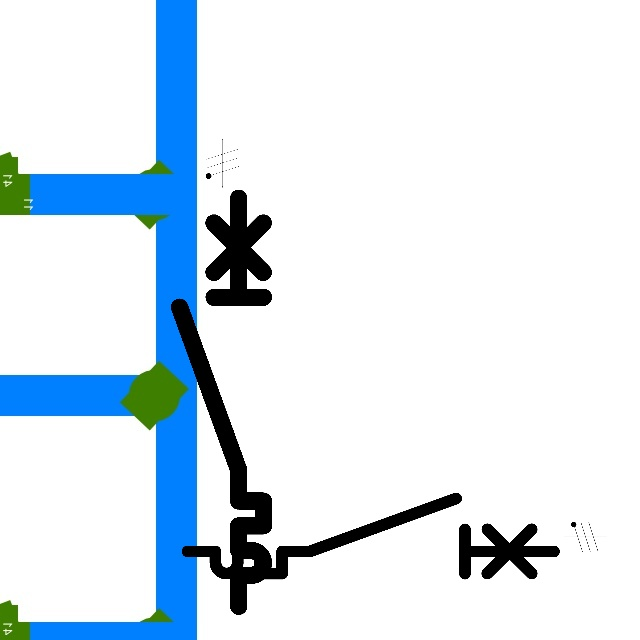interruptor_termomagnetico: (169, 187, 274, 617), (178, 489, 563, 583)
